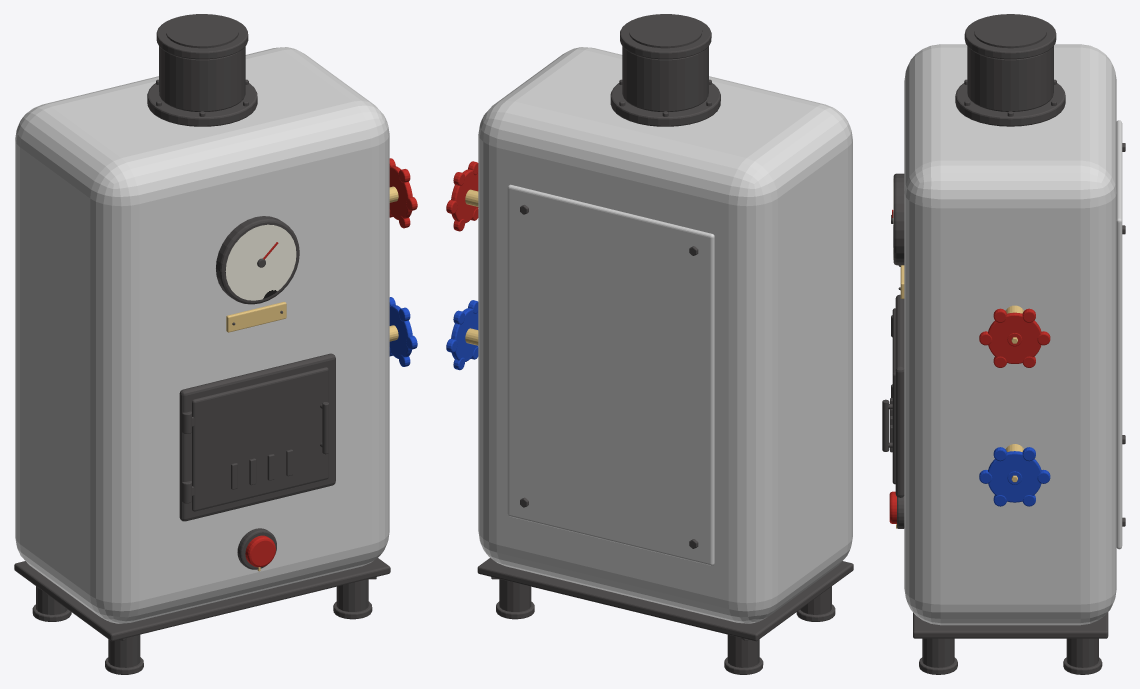
The model's file is Boiler_01.glb.
3 renders of one model, left to right at view 1: azimuth 30°, elevation 25°; view 2: azimuth 150°, elevation 25°; view 3: azimuth 270°, elevation 25°, orthographic.
Visible parts, largest first — view 1: SM_Boiler_01_Body, SM_Boiler_01_Hardware; view 2: SM_Boiler_01_Body, SM_Boiler_01_Hardware; view 3: SM_Boiler_01_Body, SM_Boiler_01_Hardware.
Part boxes in pixels (bbox=[...]): SM_Boiler_01_Body: bbox=[14, 14, 390, 674]; SM_Boiler_01_Hardware: bbox=[179, 158, 417, 571]; SM_Boiler_01_Body: bbox=[477, 14, 853, 674]; SM_Boiler_01_Hardware: bbox=[446, 161, 714, 565]; SM_Boiler_01_Body: bbox=[904, 14, 1116, 674]; SM_Boiler_01_Hardware: bbox=[882, 120, 1125, 549].
Size of the model in its own units: 0.951 by 1.51 by 0.573.
Materials: 6 (1 with a texture image).
